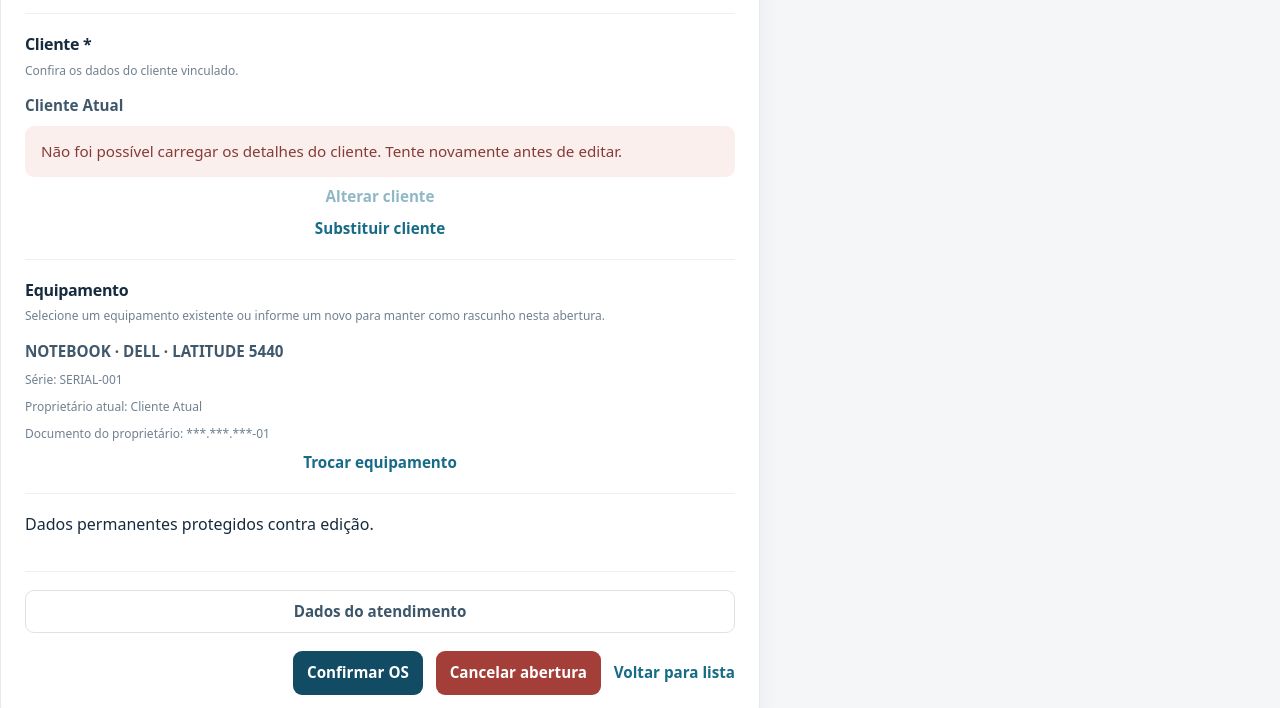
Test: ServiceOrderOpeningPage › apresenta mensagem segura para 401 UNAUTHENTICATED
(page scrolled)
What coordinates should you click on to do the following:
click the button "Confirmar OS"
I would click on:
 (358, 673)
Its box is [293,651,423,695].
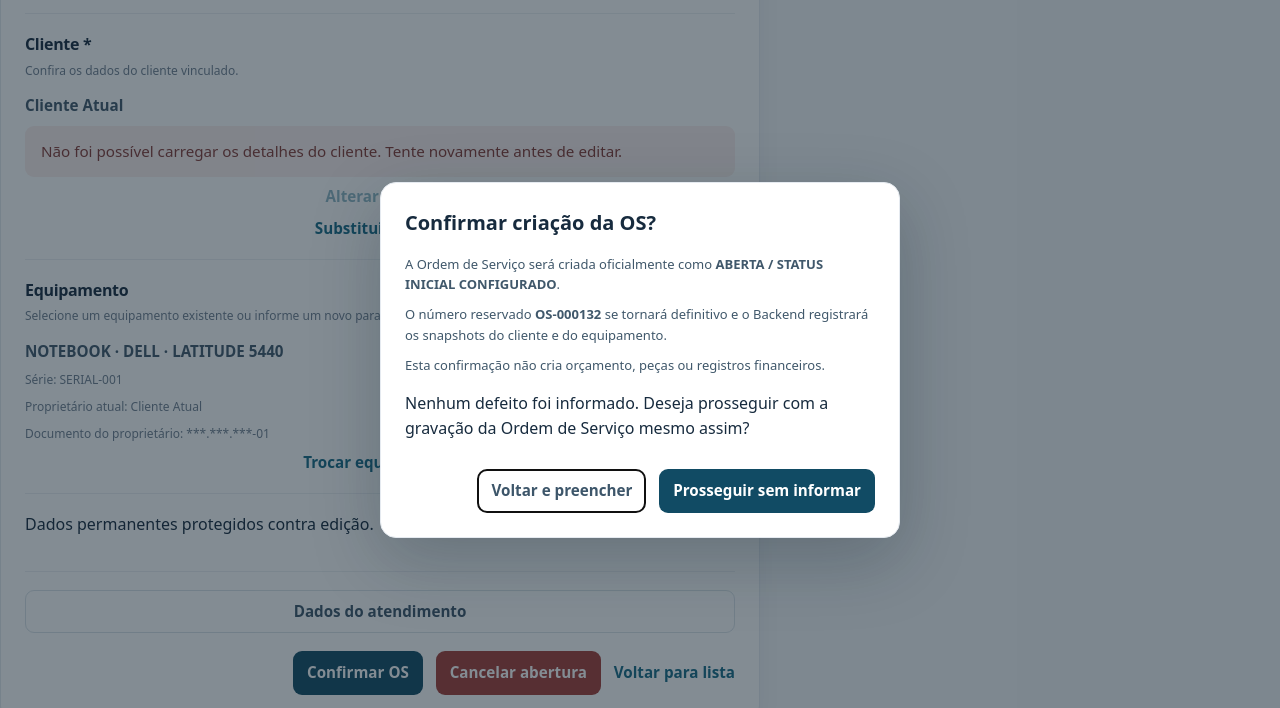
What coordinates should you click on to do the following:
click the button "Prosseguir sem informar"
I would click on:
 (767, 491)
Its box is [659,469,875,513].
(page scrolled)
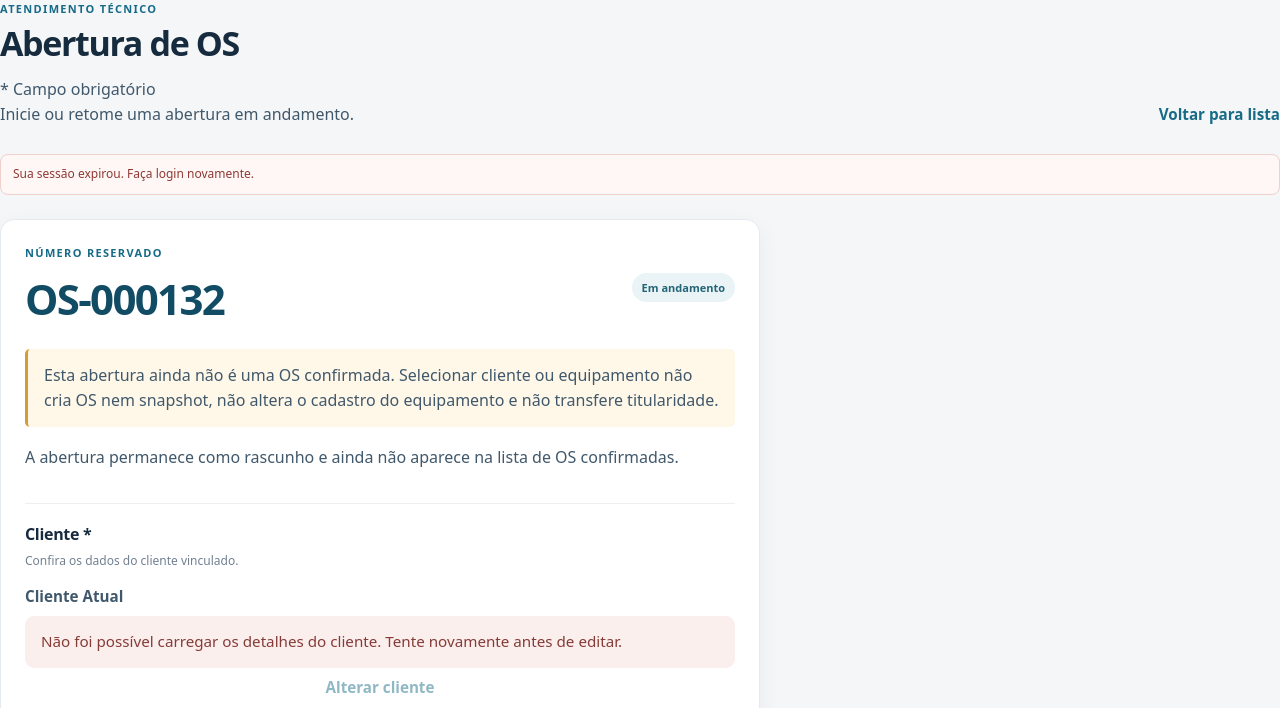
Check: the message reads "Sua sessão expirou. Faça login novamente.", box [13,165,254,182]
